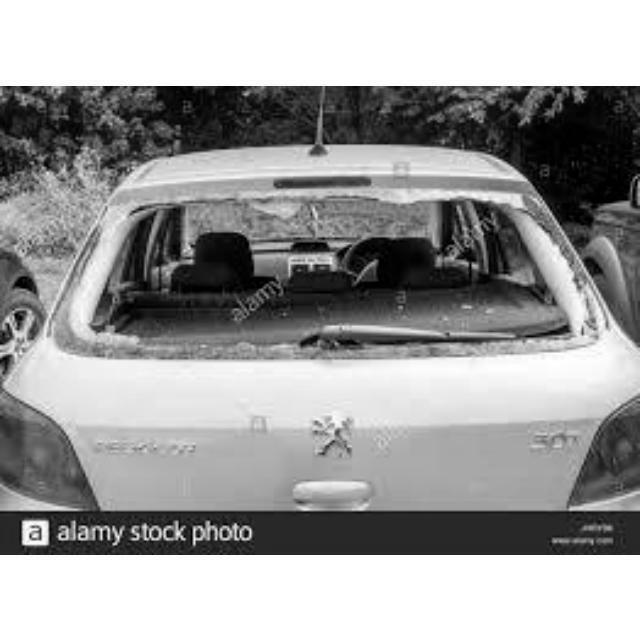Rear-windscreen-Damage: (79, 186, 591, 369)
